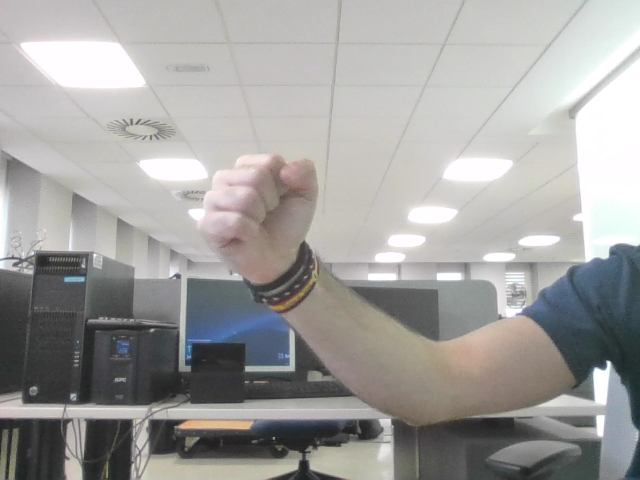Puño: (211, 162, 304, 233)
